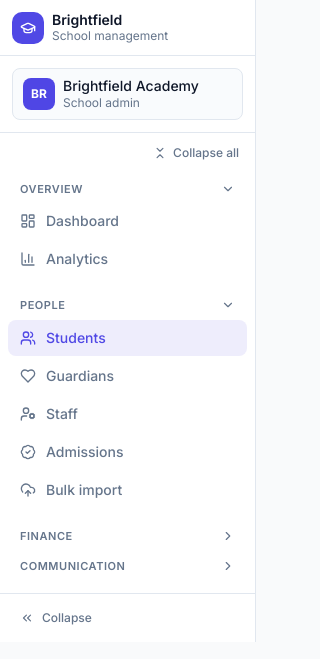
Scenario: Sidebar sections › lets the person close the section they are standing in
Click the button "People": click(128, 306) [8,293,247,320]
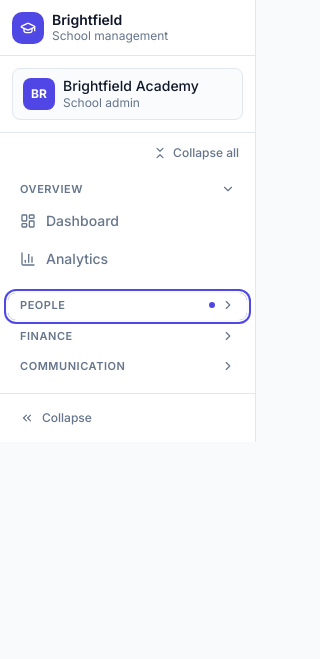
Expected: the button "People" is collapsed, [8,293,247,320]
Expected: the link "Students" is gone
